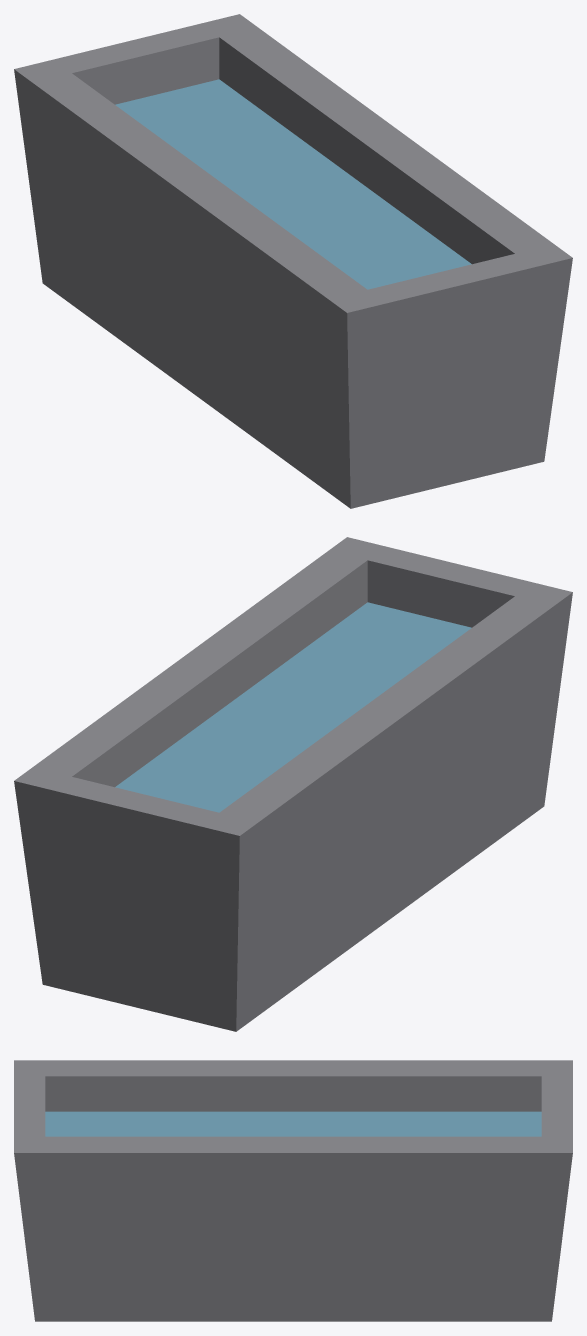
Rendered from Basssine.fbx.
3 views of the same model, one above another, from view 1: azimuth 30°, elevation 25°; view 2: azimuth 150°, elevation 25°; view 3: azimuth 270°, elevation 25° (orthographic). The views are drawn at different scales.
Parts seen in each view (by area): view 1: pasted__pCube41, pasted__pPlane4; view 2: pasted__pCube41, pasted__pPlane4; view 3: pasted__pCube41, pasted__pPlane4.
Part boxes in pixels (<box>): pasted__pCube41: <box>14,14,572,508</box>; pasted__pPlane4: <box>115,79,471,289</box>; pasted__pCube41: <box>14,537,572,1031</box>; pasted__pPlane4: <box>115,602,471,812</box>; pasted__pCube41: <box>14,1060,572,1321</box>; pasted__pPlane4: <box>45,1111,541,1136</box>.
Size of the model in its own units: 73.01 by 64.57 by 187.
